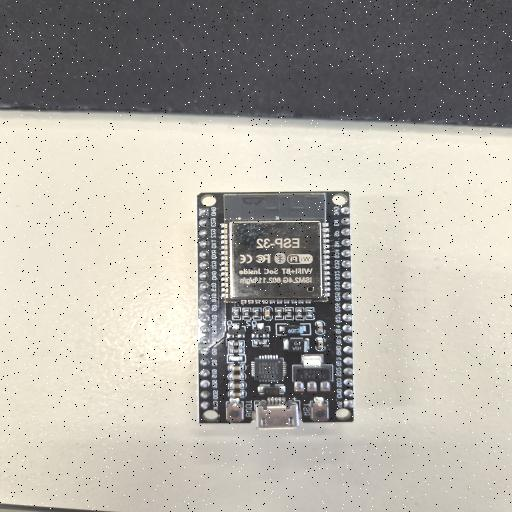esp32-dev: (197, 192, 353, 428)
